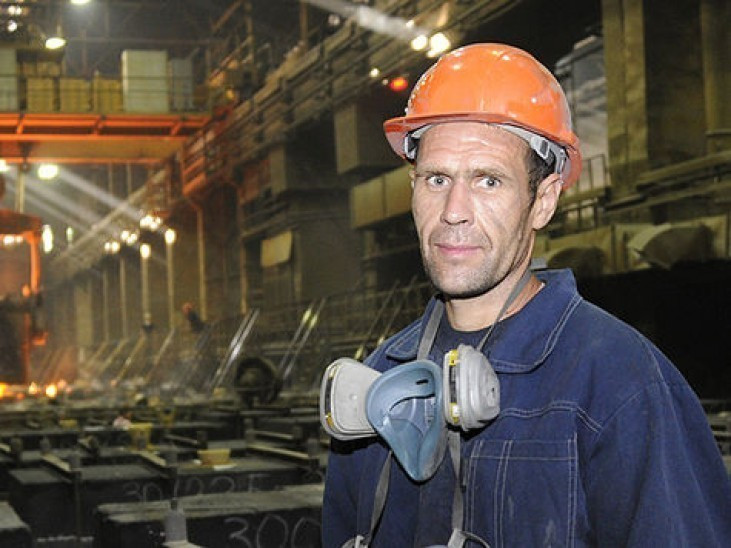person: (320, 43, 730, 548)
